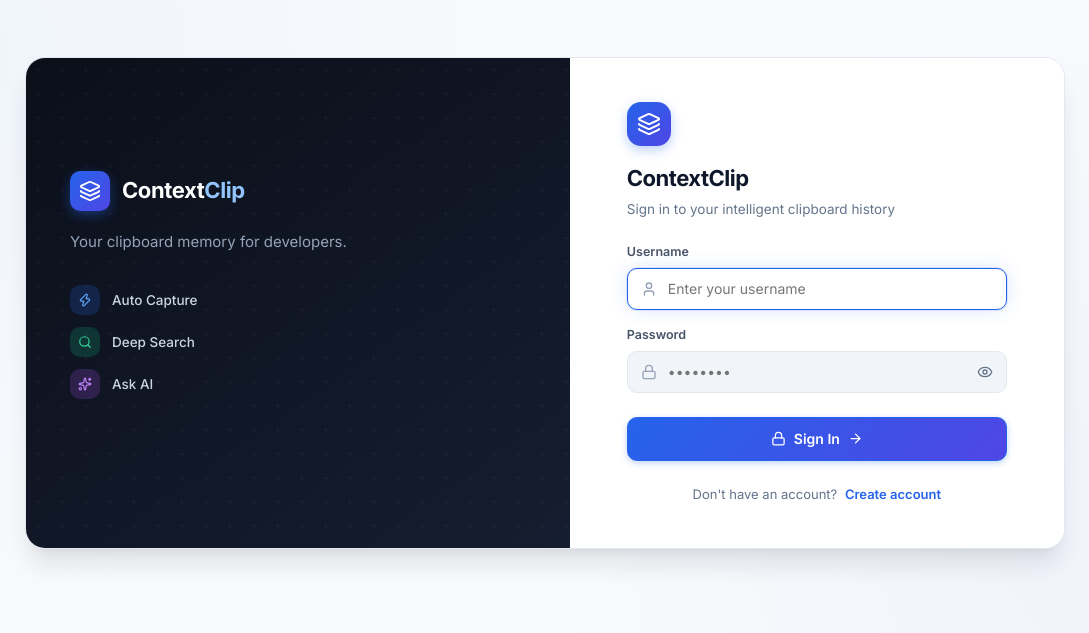
Scenario: ContextClip Authentication and Application UI Tests › 1. Authentication Flow (Login & Register) › 2. Register page renders branding, inputs, and links
Click the button with test id "link-to-register": (893, 494) [845, 486, 941, 502]
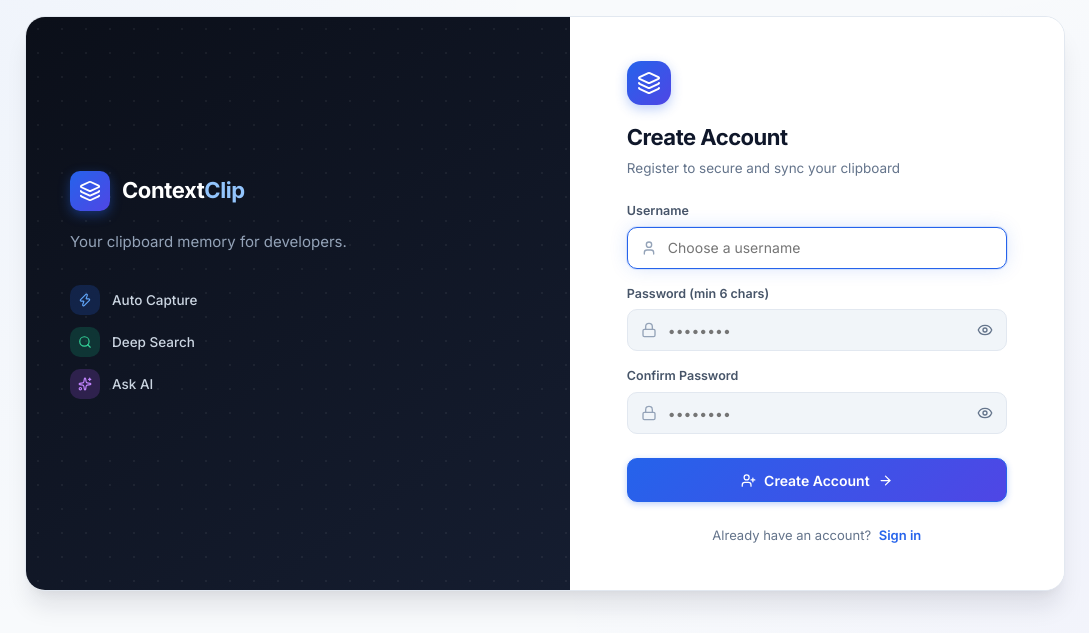
Now the element with test id "register-card" is shown, box [627, 60, 1007, 546]
Now the heading "Create Account" is shown, box [627, 124, 788, 150]
Now the field with test id "register-username" is shown, box [627, 226, 1007, 268]
